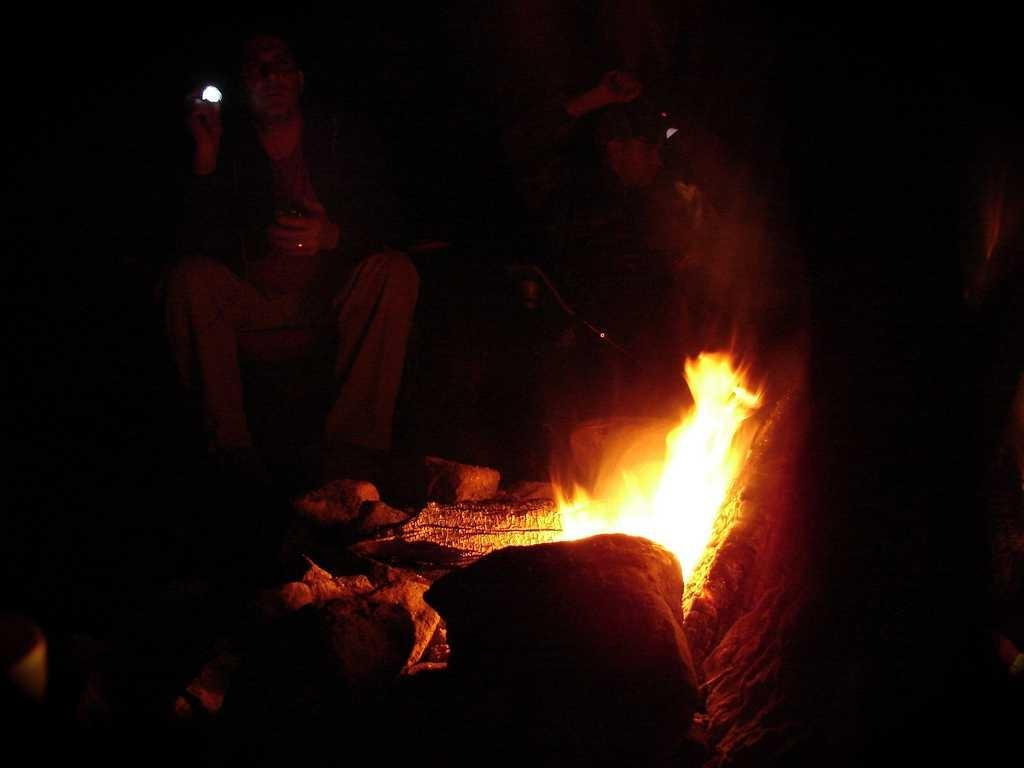fire: (488, 341, 764, 590)
